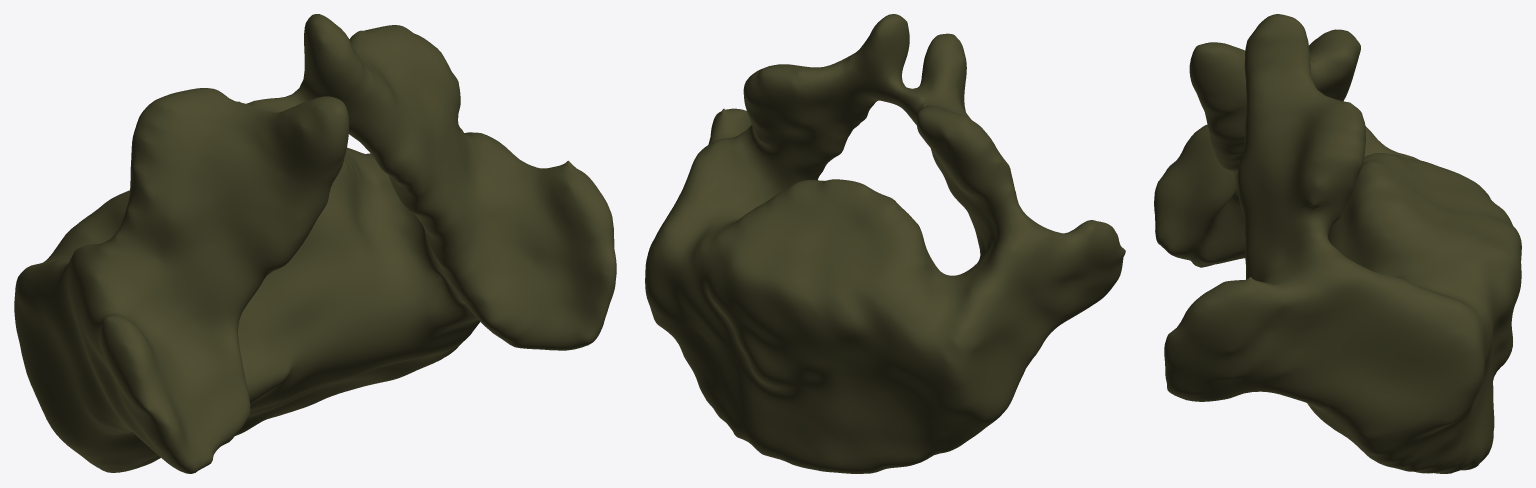
The model's file is S1 vertebra.obj.
The picture shows the model from 3 angles, left to right: view 1: azimuth 30°, elevation 25°; view 2: azimuth 150°, elevation 25°; view 3: azimuth 270°, elevation 25°; orthographic projection. The views are drawn at different scales.
Visible parts, largest first — view 1: grp1; view 2: grp1; view 3: grp1.
Part boxes in pixels (box(x1,y1,x2,y2)): grp1: box(14, 14, 616, 473); grp1: box(645, 14, 1125, 473); grp1: box(1154, 14, 1521, 473).
Size of the model in its own units: 67.74 by 64.88 by 50.15.
